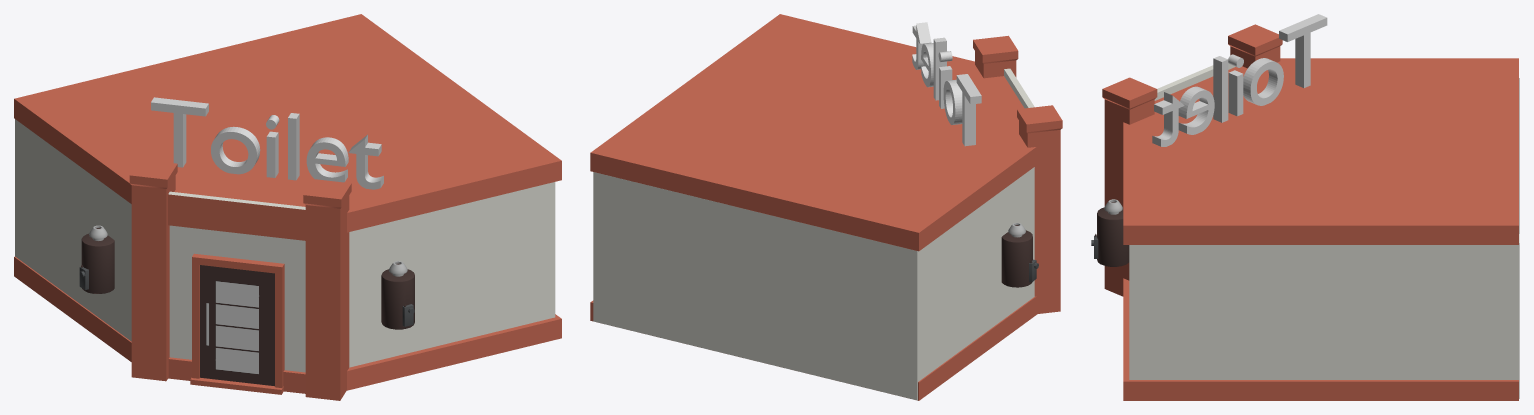
File: Toilet.fbx
3 views of the same model, side by side, from view 1: azimuth 30°, elevation 25°; view 2: azimuth 150°, elevation 25°; view 3: azimuth 270°, elevation 25° (orthographic). The views are drawn at different scales.
Visible parts, largest first — view 1: Toilet; view 2: Toilet; view 3: Toilet.
Part boxes in pixels (bbox=[...]): Toilet: bbox=[14, 14, 561, 400]; Toilet: bbox=[590, 14, 1062, 400]; Toilet: bbox=[1091, 14, 1519, 400].
Bounding box in the file's own units: 1210 × 736 × 1208.
Materials: 1 (1 with a texture image).
